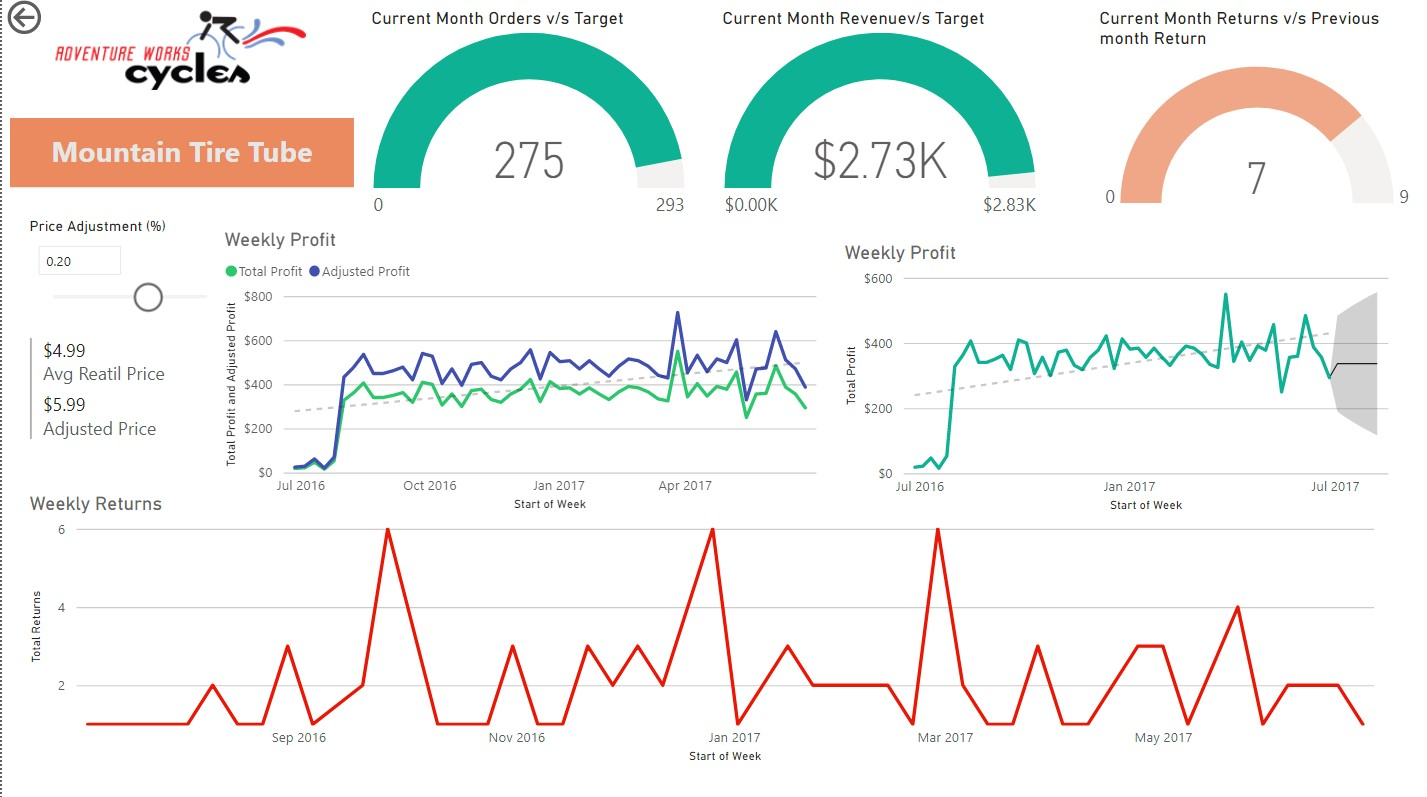

Layout of this report page (visuals, bound fields, positions):
{"tool":"powerbi","page":{"name":"Products","canvas":[1280,720],"ordinal":1},"visuals":[{"type":"image","box":[42.7,0,237.3,99.1],"z":0},{"type":"lineChart","title":"Weekly Returns","fields":{"Category":["AW_Calendar.Start of Week"],"Y":["AW_Returns.Total Returns"]},"box":[20,445.5,1230,247.3],"z":1000},{"type":"lineChart","title":"Weekly Profit","fields":{"Y":["AW_Sales.Total Profit"],"Category":["AW_Calendar.Start of Week"]},"box":[750,220,509.1,247.3],"z":2000},{"type":"gauge","title":"Current Month Orders v/s Target","fields":{"Y":["AW_Sales.Total Orders"],"MaxValue":["AW_Sales.Order Target"]},"box":[326.4,10.9,291.8,198.2],"z":3000},{"type":"gauge","title":"Current Month Revenuev/s Target","fields":{"Y":["AW_Sales.Total Revenue"],"MaxValue":["AW_Sales.Revenue target"]},"box":[640,10.9,291.8,198.2],"z":4000},{"type":"gauge","title":"Current Month Returns v/s Previous month Return","fields":{"Y":["AW_Returns.Total Returns"],"MaxValue":["AW_Returns.Prev Month Returns"]},"box":[978.2,10.9,291.8,198.2],"z":5000},{"type":"card","fields":{"Values":["Min(AW_Product_Lookup.ProductName)"]},"box":[7.3,110,308.2,61.8],"z":6000},{"type":"actionButton","box":[0,0,100,40],"z":7000},{"type":"slicer","title":"Price Adjustment (%)","fields":{"Values":["Price Adjustment (%).Price Adjustment (%)"]},"box":[20,200,186.4,101.8],"z":8000},{"type":"multiRowCard","fields":{"Values":["AW_Product_Lookup.Avg Reatil Price","AW_Product_Lookup.Adjusted Price"]},"box":[20,301.8,181.8,105.5],"z":9000},{"type":"lineChart","title":"Weekly Profit","fields":{"Category":["AW_Calendar.Start of Week"],"Y":["AW_Sales.Total Profit","AW_Sales.Adjusted Profit"]},"box":[194.5,209.1,555.5,258.2],"z":10000}]}

Visuals, with their boxes in screenshot pixels (x1, y1, x2, y2), scaled from the page's 1280x720 canvas onto the 1427x797 screenshot:
image: l=48, t=0, r=312, b=110
"Weekly Returns" lineChart: l=22, t=493, r=1394, b=767
"Weekly Profit" lineChart: l=836, t=244, r=1404, b=517
"Current Month Orders v/s Target" gauge: l=364, t=12, r=689, b=231
"Current Month Revenuev/s Target" gauge: l=714, t=12, r=1039, b=231
"Current Month Returns v/s Previous month Return" gauge: l=1091, t=12, r=1416, b=231
card - Min(AW_Product_Lookup.ProductName): l=8, t=122, r=352, b=190
actionButton: l=0, t=0, r=111, b=44
"Price Adjustment (%)" slicer: l=22, t=221, r=230, b=334
multiRowCard - AW_Product_Lookup.Avg Reatil Price x AW_Product_Lookup.Adjusted Price: l=22, t=334, r=225, b=451
"Weekly Profit" lineChart: l=217, t=231, r=836, b=517
